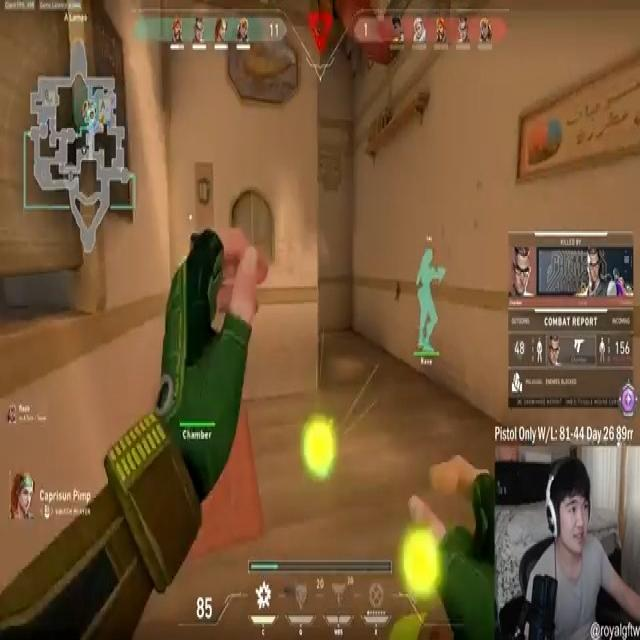ally behind wall: (414, 240, 448, 363)
